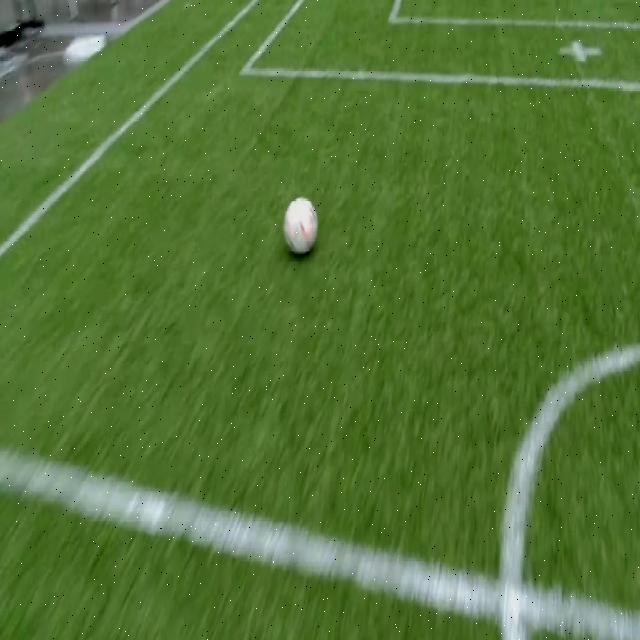ball: (284, 196, 316, 252)
